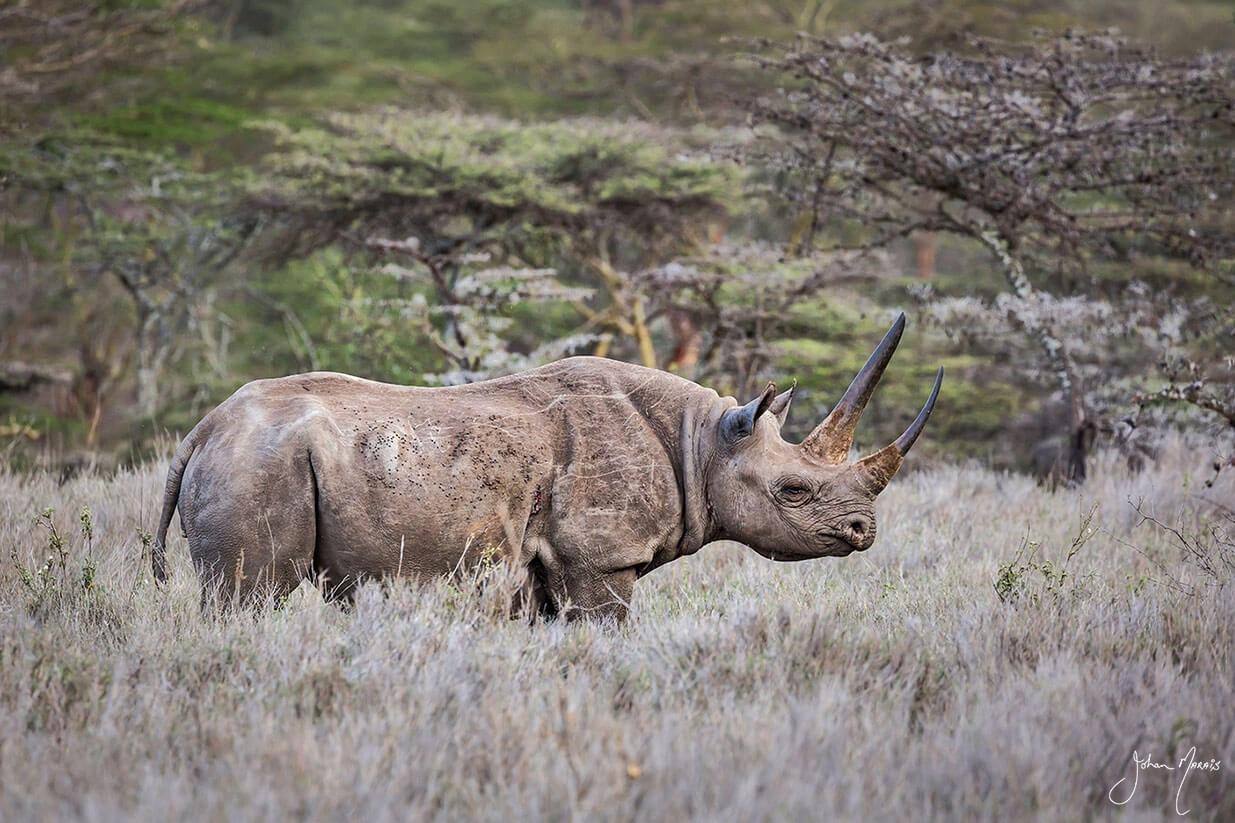rhino: (150, 314, 944, 626)
